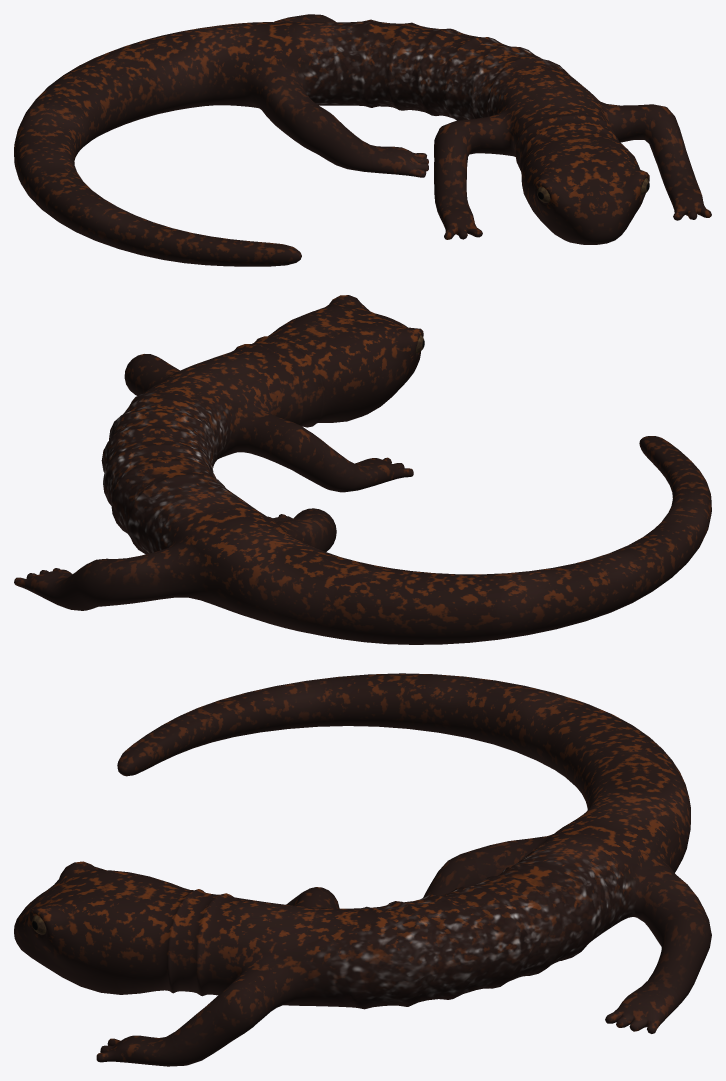
The model's file is Tlaconete Dorado.glb.
3 renders of one model, top to bottom at view 1: azimuth 30°, elevation 25°; view 2: azimuth 150°, elevation 25°; view 3: azimuth 270°, elevation 25°, orthographic. The views are drawn at different scales.
Visible parts, largest first — view 1: Tlaconete Dorado; view 2: Tlaconete Dorado; view 3: Tlaconete Dorado.
Part boxes in pixels (<box>): Tlaconete Dorado: <box>14,14,711,266</box>; Tlaconete Dorado: <box>14,295,711,644</box>; Tlaconete Dorado: <box>14,673,711,1066</box>.
Size of the model in its own units: 16.55 by 2.58 by 15.
1 material, 1 textured.
